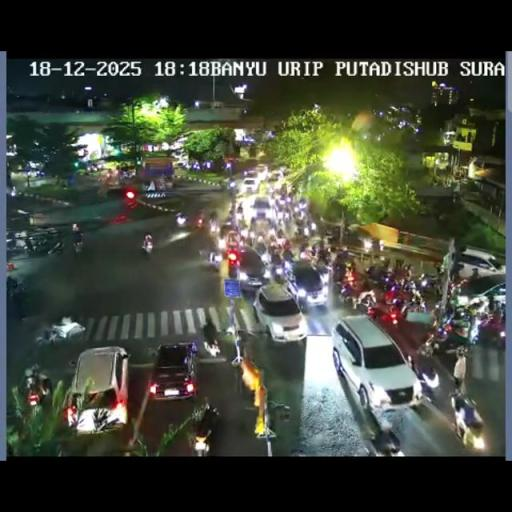Car: (331, 315, 420, 412), (67, 346, 130, 436), (252, 283, 306, 343), (148, 342, 198, 401), (222, 244, 266, 290), (445, 247, 503, 281), (245, 194, 273, 225), (219, 222, 239, 246), (242, 176, 260, 193), (253, 164, 269, 178), (268, 168, 283, 182)
Motorcycle: (451, 394, 485, 447), (226, 332, 248, 394), (475, 306, 505, 348), (374, 415, 402, 454), (410, 357, 438, 396), (339, 278, 363, 308), (202, 316, 220, 356), (25, 373, 46, 407), (268, 236, 294, 262), (401, 288, 426, 315), (418, 327, 442, 355), (451, 315, 472, 346), (418, 271, 444, 296), (374, 302, 400, 326), (381, 282, 405, 306), (464, 294, 490, 316), (389, 262, 412, 286), (294, 211, 312, 237), (438, 304, 456, 330), (192, 430, 210, 456), (34, 328, 60, 346), (269, 260, 289, 283), (334, 247, 354, 269), (314, 248, 334, 268), (446, 280, 464, 302), (362, 235, 384, 253), (205, 248, 222, 270), (46, 238, 65, 256), (6, 274, 23, 294), (6, 230, 20, 250), (72, 236, 84, 258), (24, 236, 38, 254), (118, 167, 135, 181), (142, 237, 154, 255), (66, 358, 78, 376), (274, 206, 285, 225), (324, 228, 338, 242), (244, 229, 255, 246), (299, 248, 312, 262), (260, 250, 271, 266), (255, 234, 266, 250), (209, 217, 219, 234), (227, 178, 237, 194), (235, 208, 245, 224), (267, 182, 278, 196), (297, 198, 308, 212), (6, 184, 17, 198), (434, 262, 443, 278), (195, 214, 205, 228), (282, 192, 292, 206), (176, 214, 186, 226), (262, 266, 272, 278), (470, 267, 479, 280), (278, 183, 286, 197), (310, 222, 316, 232)
